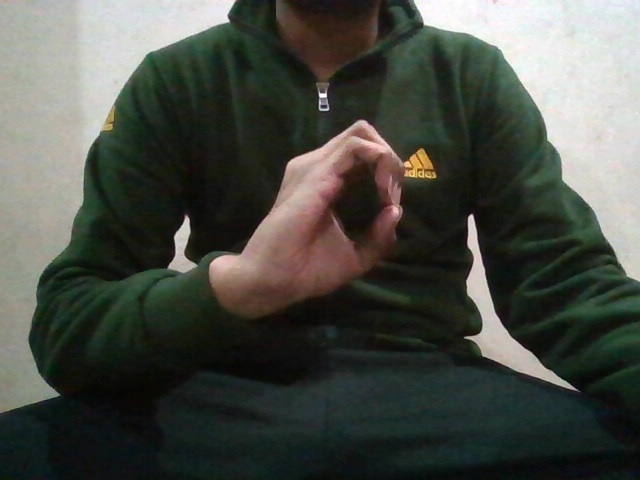O: (258, 115, 404, 301)
